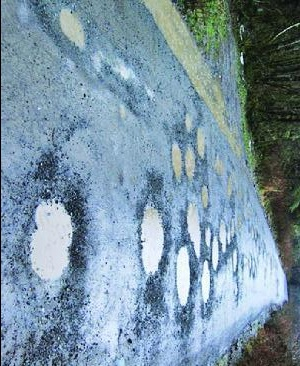pothole: (26, 187, 88, 283), (139, 199, 167, 276), (58, 5, 89, 51), (177, 242, 193, 309), (170, 138, 185, 184), (199, 258, 212, 304), (209, 233, 220, 273), (184, 145, 197, 178), (196, 125, 207, 159), (218, 218, 227, 254), (201, 183, 211, 211), (185, 111, 195, 135), (230, 247, 239, 272)
